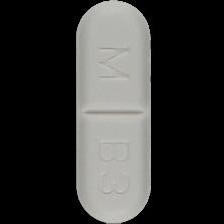60429-293: (0, 0, 224, 224)
